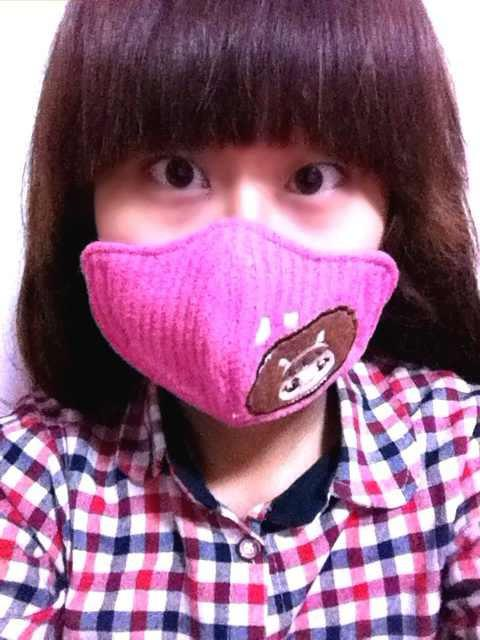OK: (109, 111, 380, 417)
